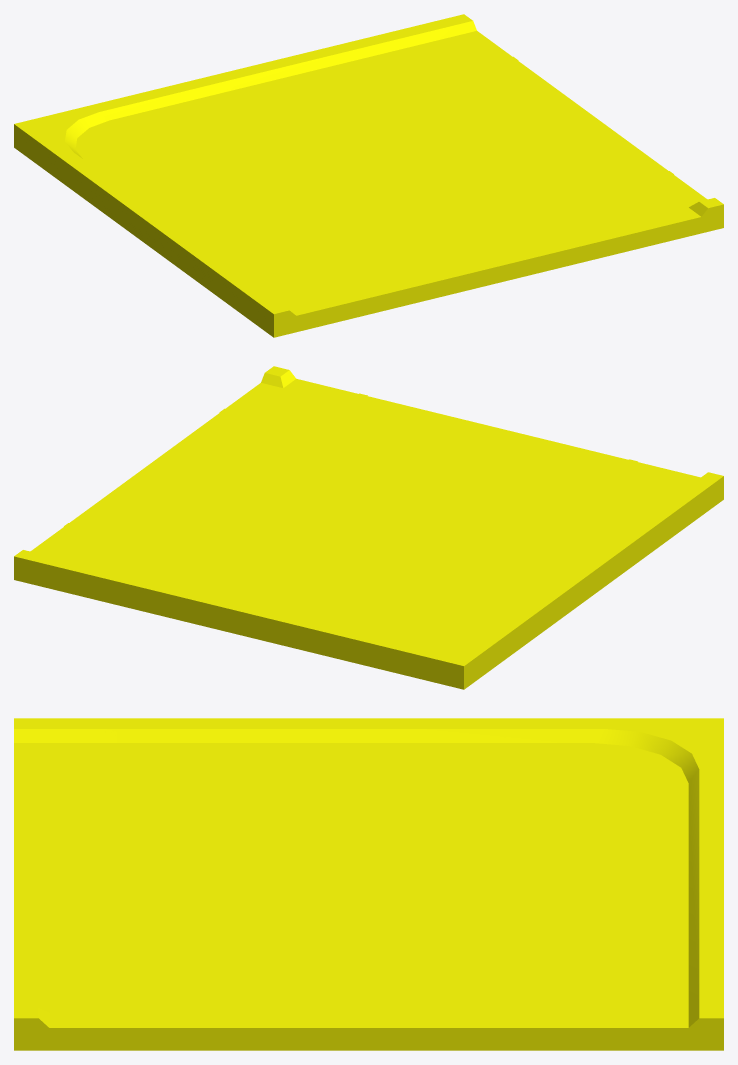
Rendered from kaykit-road-corner.glb.
The picture shows the model from 3 angles, top to bottom: view 1: azimuth 30°, elevation 25°; view 2: azimuth 150°, elevation 25°; view 3: azimuth 270°, elevation 25°; orthographic projection. The views are drawn at different scales.
Visible parts, largest first — view 1: road_corner; view 2: road_corner; view 3: road_corner.
Boxes of the visible parts, x1,y1,x2,y2 form: road_corner: (14,14,723,337); road_corner: (14,366,723,689); road_corner: (14,718,723,1050).
Bounding box in the file's own units: 2 × 0.1001 × 2.
